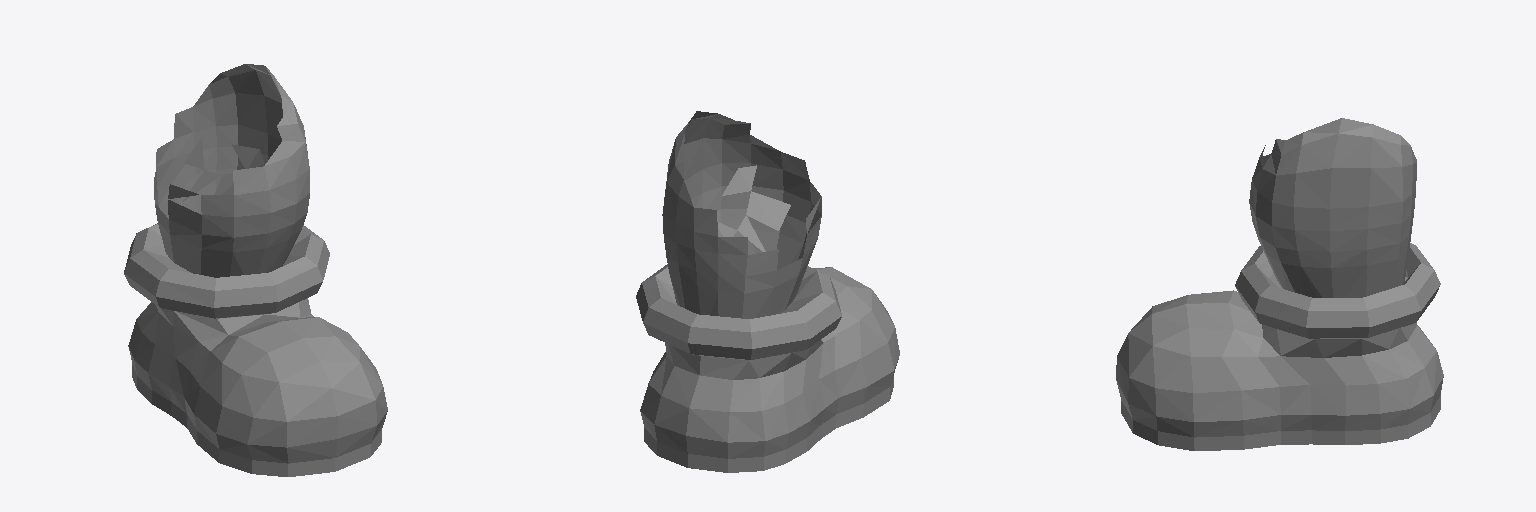
File: YoshiPataI.obj
3 renders of one model, left to right at view 1: azimuth 30°, elevation 25°; view 2: azimuth 150°, elevation 25°; view 3: azimuth 270°, elevation 25°, orthographic.
Parts seen in each view (by area): view 1: YoshiPataI; view 2: YoshiPataI; view 3: YoshiPataI.
Boxes of the visible parts, x1,y1,x2,y2 form: YoshiPataI: [124, 64, 387, 476]; YoshiPataI: [636, 111, 899, 472]; YoshiPataI: [1116, 118, 1443, 450].
Size of the model in its own units: 0.3994 by 0.6889 by 0.6484.